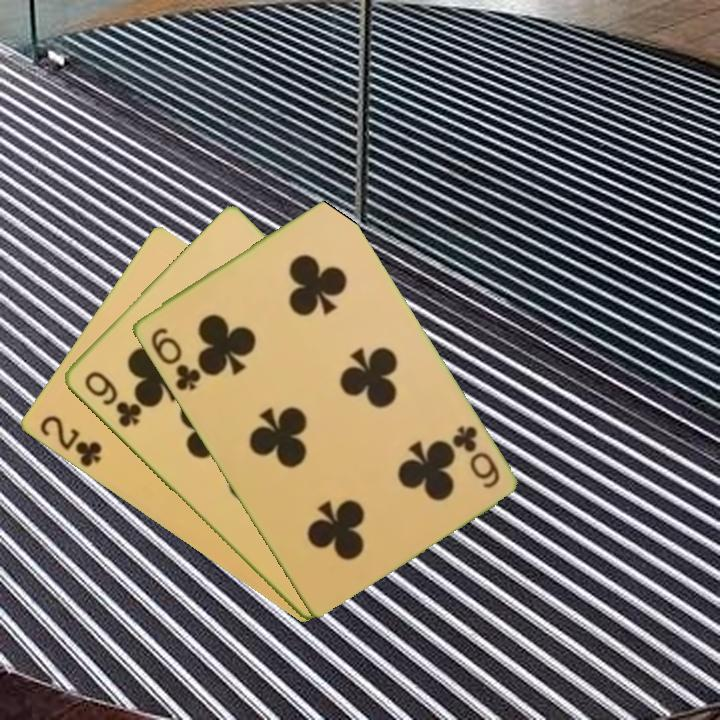2c: (35, 411, 105, 471)
6c: (146, 323, 203, 394), (448, 421, 503, 492)
9c: (80, 367, 144, 430)
